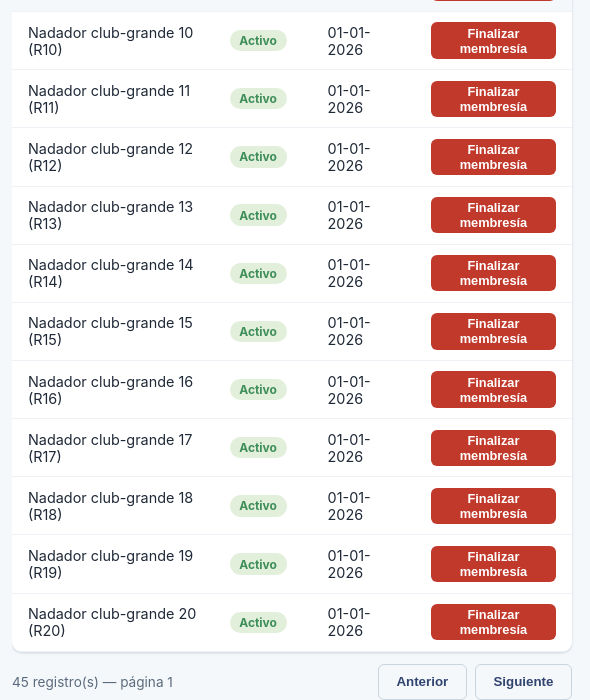
la tabla valida la respuesta antes de aplicarla › PÁGINA distinta de la pedida: error, sin filas, con reintento
(page scrolled)
Click the button "Siguiente".
click(523, 682)  # box [475, 664, 572, 699]
(page scrolled)
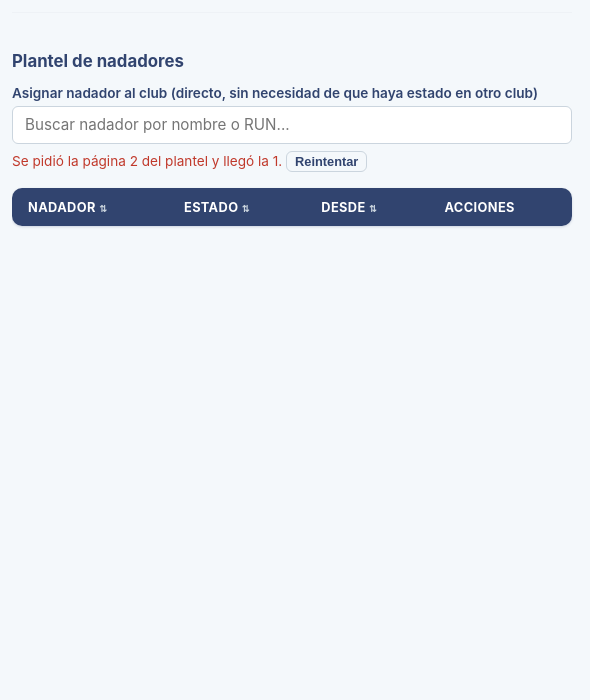
Expected: the text "Se pidió la página 2 del plantel y llegó la 1. Reintentar" is shown, [12, 151, 367, 172]
Expected: the button "Reintentar" is shown, [286, 151, 367, 172]
